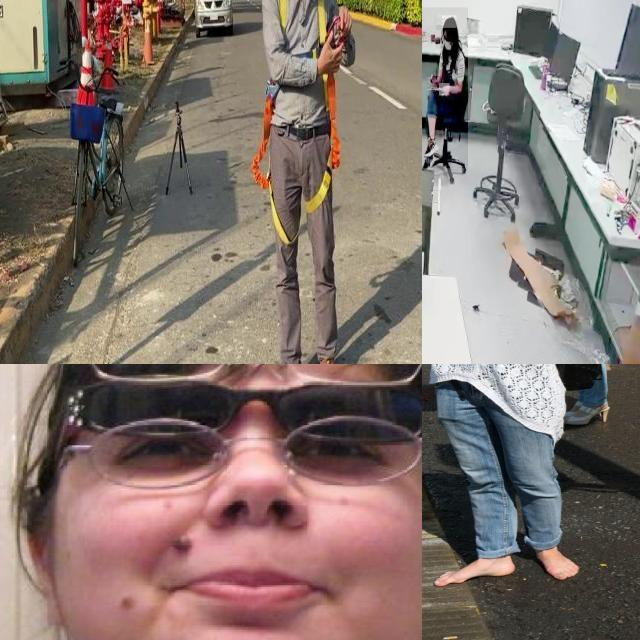Barefoots: (433, 558, 516, 586), (535, 546, 579, 580)
Harness: (252, 81, 292, 246), (306, 74, 342, 214)
face_mask: (439, 30, 457, 59)
face_nomask: (108, 416, 414, 640)
glasses: (69, 375, 422, 435), (69, 364, 422, 391)
hand_noglove: (439, 83, 450, 96), (431, 76, 441, 88)
head_nohelmet: (442, 15, 457, 29)
person: (422, 7, 468, 169)
shoes: (422, 132, 439, 162)
